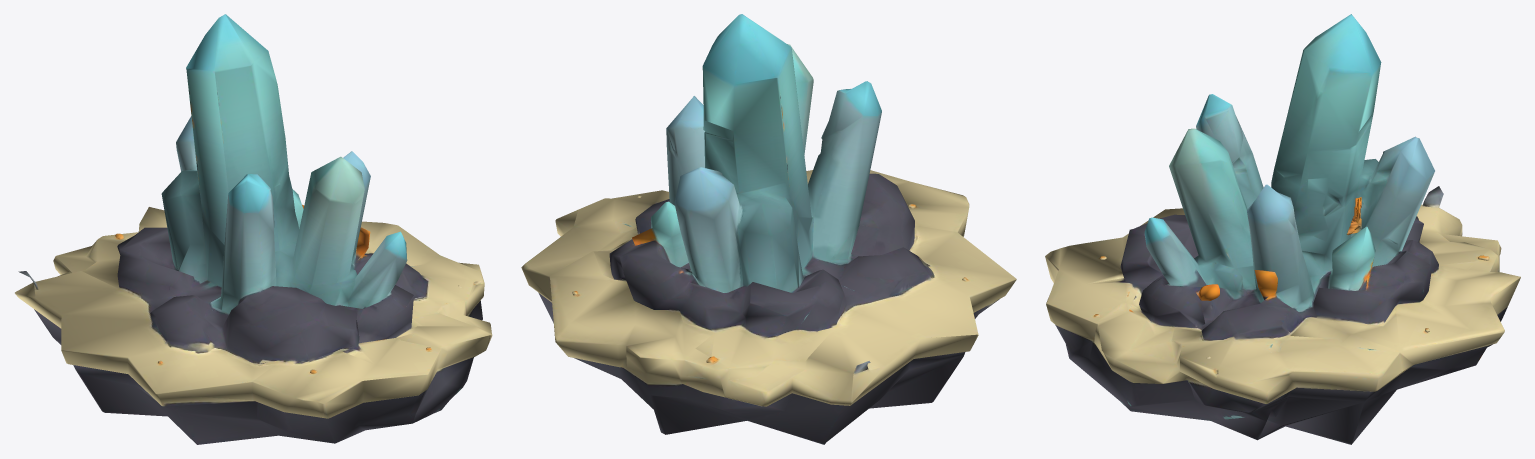
File: crystal-island-low.glb
3 views of the same model, side by side, from view 1: azimuth 30°, elevation 25°; view 2: azimuth 150°, elevation 25°; view 3: azimuth 270°, elevation 25° (orthographic). The views are drawn at different scales.
Visible parts, largest first — view 1: crystal-island; view 2: crystal-island; view 3: crystal-island.
Part boxes in pixels (<box>): crystal-island: <box>15,14,492,444</box>; crystal-island: <box>521,14,1016,444</box>; crystal-island: <box>1045,14,1520,444</box>.
Size of the model in its own units: 0.9843 by 0.816 by 1.
Materials: 1 (1 with a texture image).
